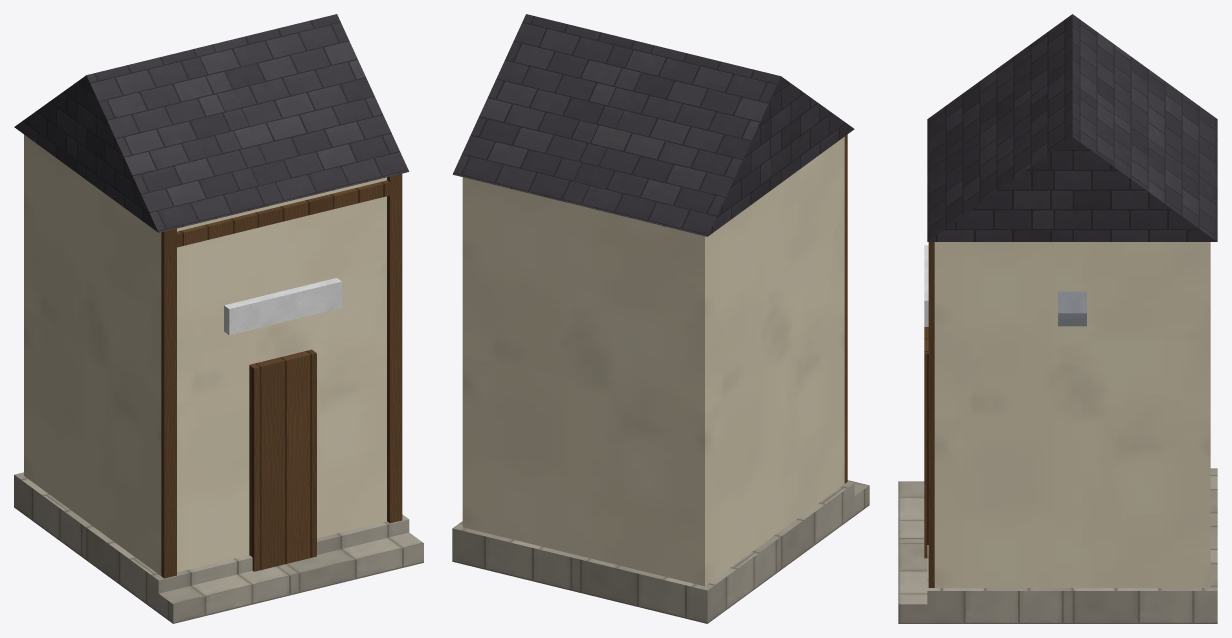
File: category.bridge.t2.glb
3 views of the same model, side by side, from view 1: azimuth 30°, elevation 25°; view 2: azimuth 150°, elevation 25°; view 3: azimuth 270°, elevation 25° (orthographic).
Visible parts, largest first — view 1: building.category.bridge.t2; view 2: building.category.bridge.t2; view 3: building.category.bridge.t2.
Boxes of the visible parts, left/top/right/bottom form: building.category.bridge.t2: left=14, top=14, right=423, bottom=623; building.category.bridge.t2: left=452, top=14, right=869, bottom=623; building.category.bridge.t2: left=898, top=14, right=1217, bottom=623.
Size of the model in its own units: 2.3 by 3.7 by 2.2.
Materials: 6 (6 with a texture image).
